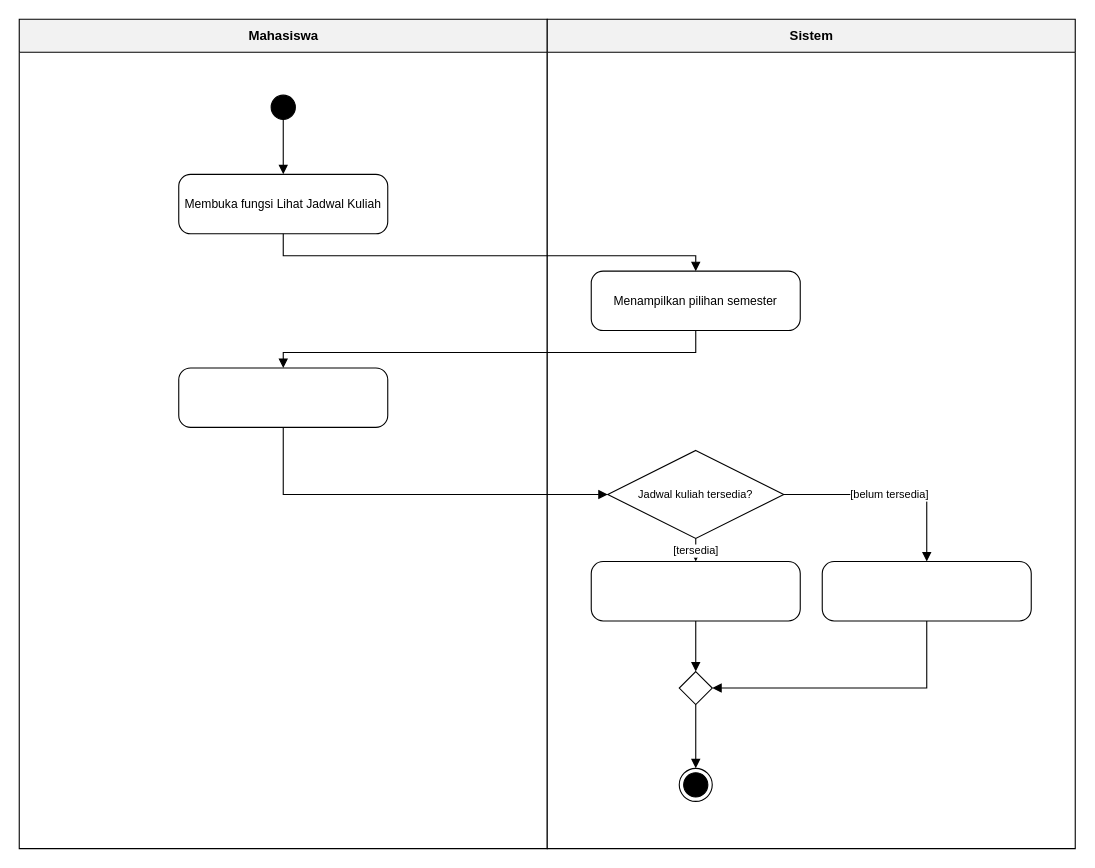
This 1095x868 diagram has some shape labels left out. The shapes that lost their labels are listed below. From the top down, each one's centre as x and y in pixels, then its label:
the point at 283,397: Memilih semester
the point at 695,590: Menampilkan jadwal kuliah semester yang dipilih
the point at 926,590: Menampilkan pesan jadwal kuliah belum tersedia
